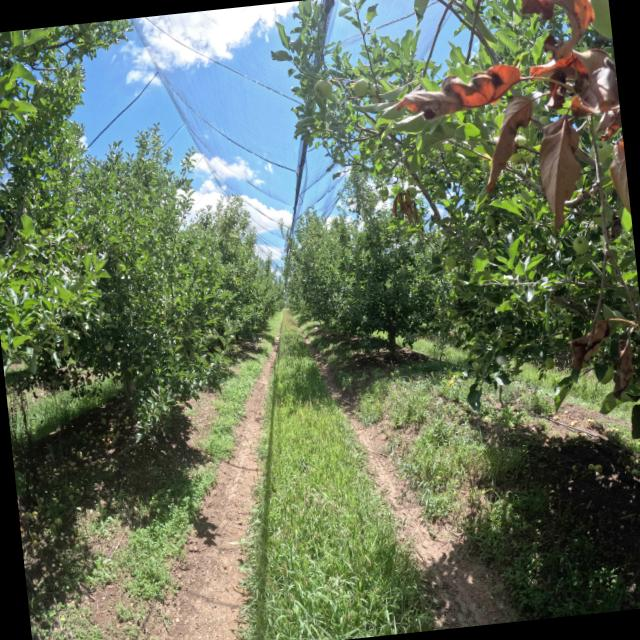-FireBlight-: (388, 0, 627, 230), (544, 317, 628, 393), (381, 186, 430, 227)
